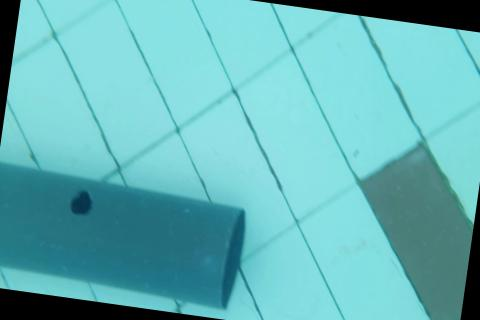kebocoran: (66, 186, 95, 219)
